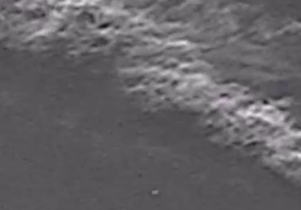Target: (152, 190, 158, 193)
